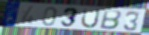0: (42, 6, 59, 27)
3: (60, 6, 81, 28), (123, 10, 139, 32)
4: (20, 5, 36, 26)
B: (98, 9, 122, 31)
U: (80, 7, 102, 29)
